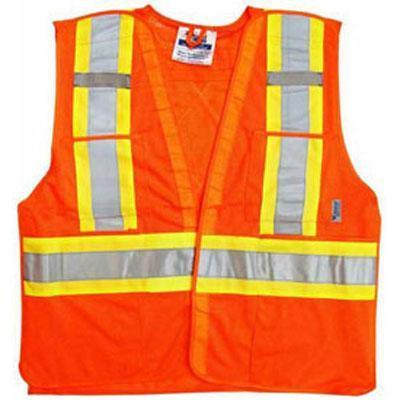vest: (9, 6, 381, 397)
